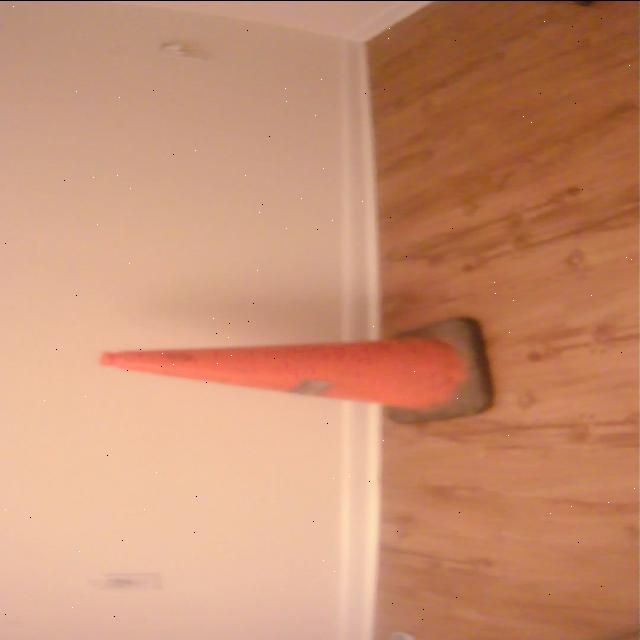traffic cone: (91, 314, 503, 430)
